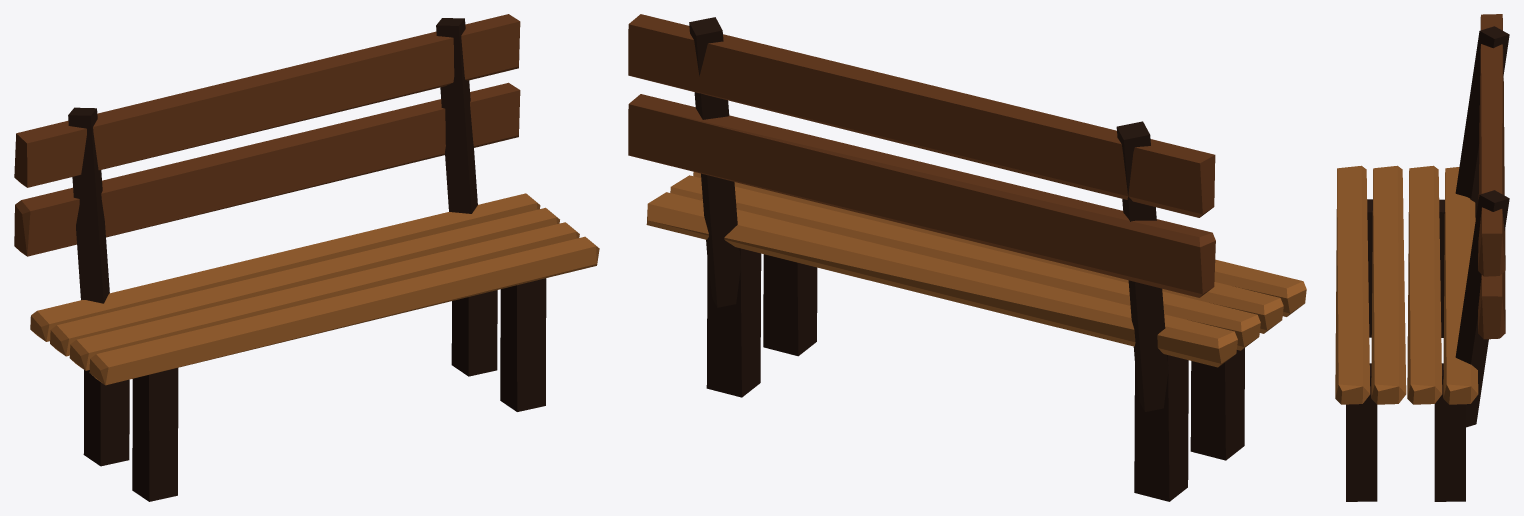
File: Banco_de_madeira_LOD1.fbx
The picture shows the model from 3 angles, left to right: view 1: azimuth 30°, elevation 25°; view 2: azimuth 150°, elevation 25°; view 3: azimuth 270°, elevation 25°; orthographic projection. The views are drawn at different scales.
Parts seen in each view (by area): view 1: Banco_de_madeira_LOD1; view 2: Banco_de_madeira_LOD1; view 3: Banco_de_madeira_LOD1.
Boxes of the visible parts, box(x1,y1,x2,y2) form: Banco_de_madeira_LOD1: box(14, 14, 599, 501); Banco_de_madeira_LOD1: box(628, 14, 1306, 501); Banco_de_madeira_LOD1: box(1335, 14, 1509, 501).
Size of the model in its own units: 190 by 120 by 62.95.
Materials: 1 (1 with a texture image).
